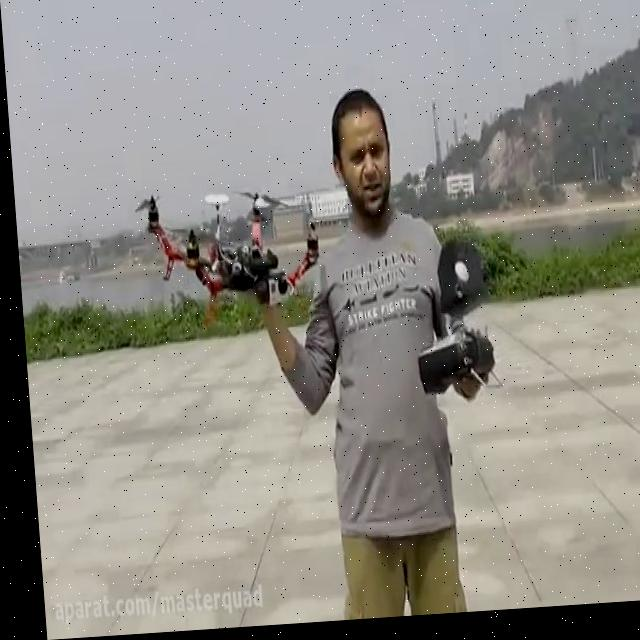drone: (124, 180, 323, 332)
